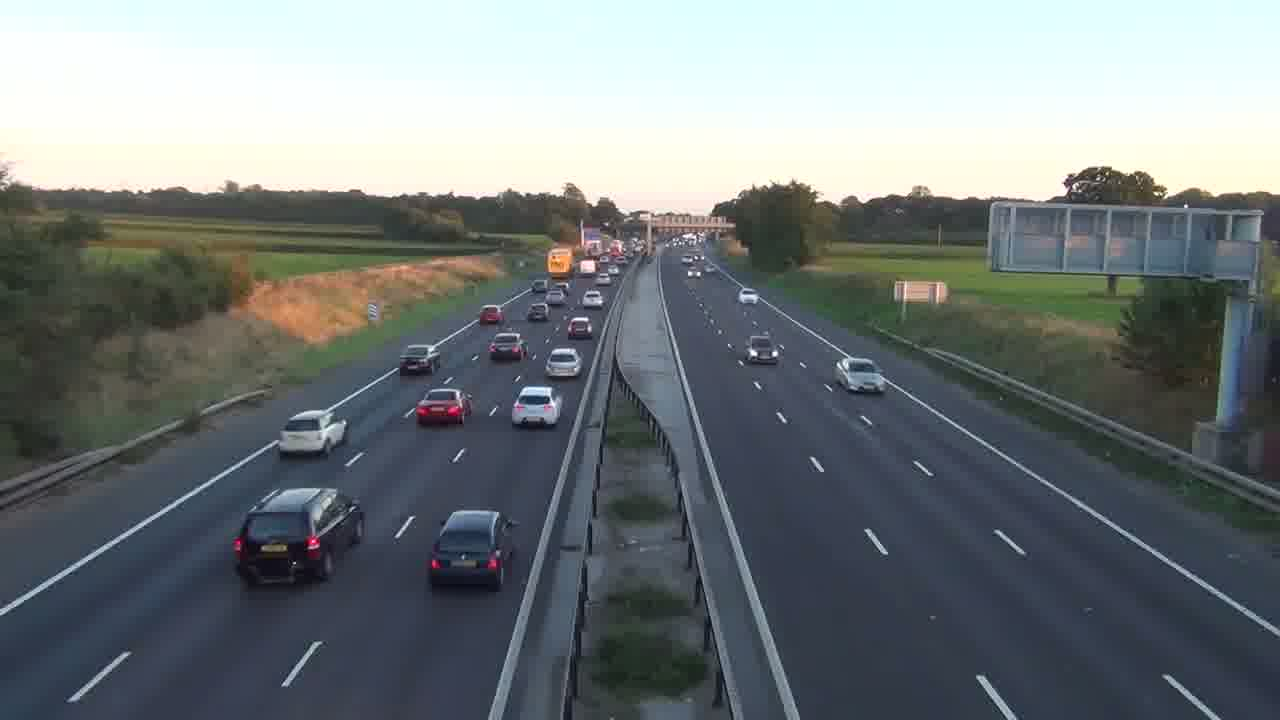car: (231, 485, 366, 587), (426, 508, 517, 589), (278, 409, 350, 457), (512, 384, 563, 429), (831, 355, 886, 395), (415, 387, 469, 426), (488, 331, 528, 362), (544, 347, 582, 379), (400, 343, 438, 375), (582, 288, 604, 308)
